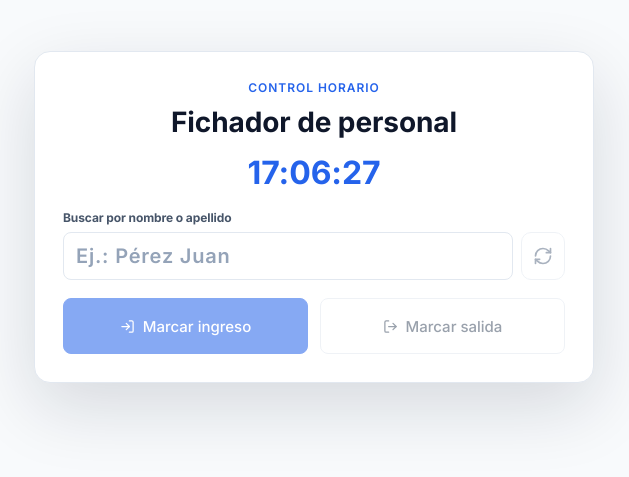
Test case: TimeClockPage standalone (F1) — flujo, errores e idempotencia › sin conexión con el backend: la búsqueda muestra un estado claro y no permite fichar
This screenshot has width=629, height=477.
In the field labelled "Buscar por nombre o apellido": (288, 256) 63,232 -> 513,280, type "Gomez"
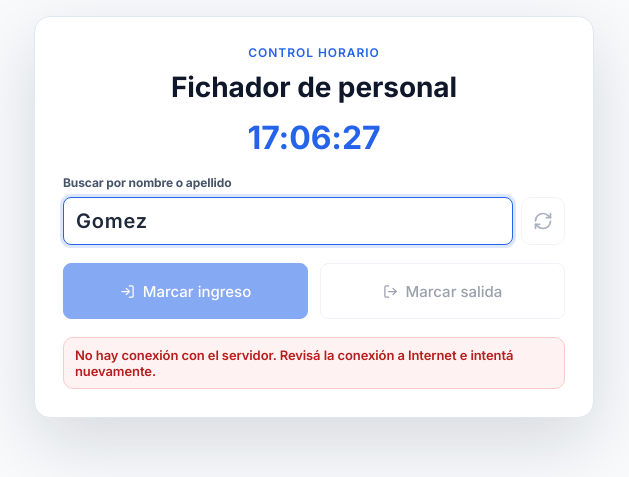
Expected: the button "Marcar ingreso" is disabled, 63,263 -> 308,319
Now the text "No hay conexión con el servidor" is shown, box 75,347 -> 513,379
